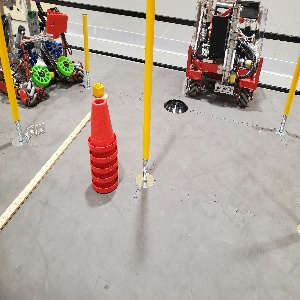Red_5: (87, 95, 117, 192)
